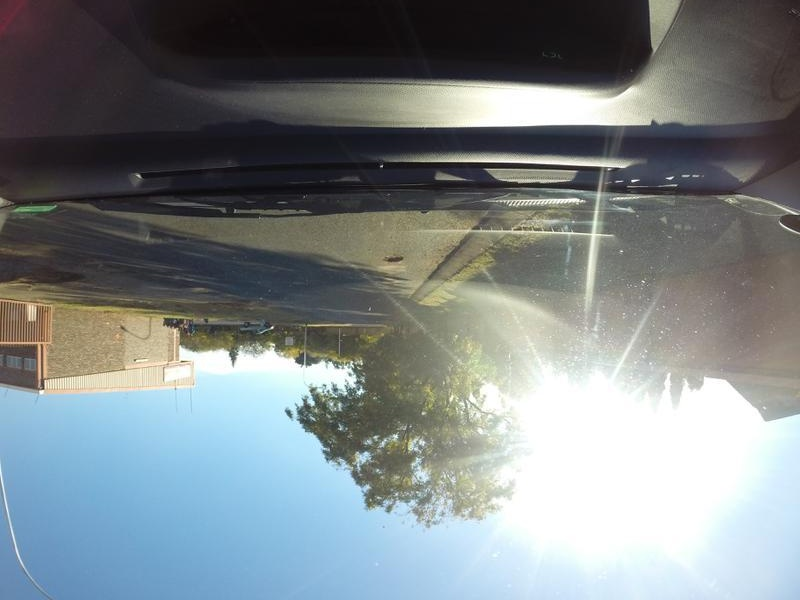pothole: (379, 254, 404, 262)
